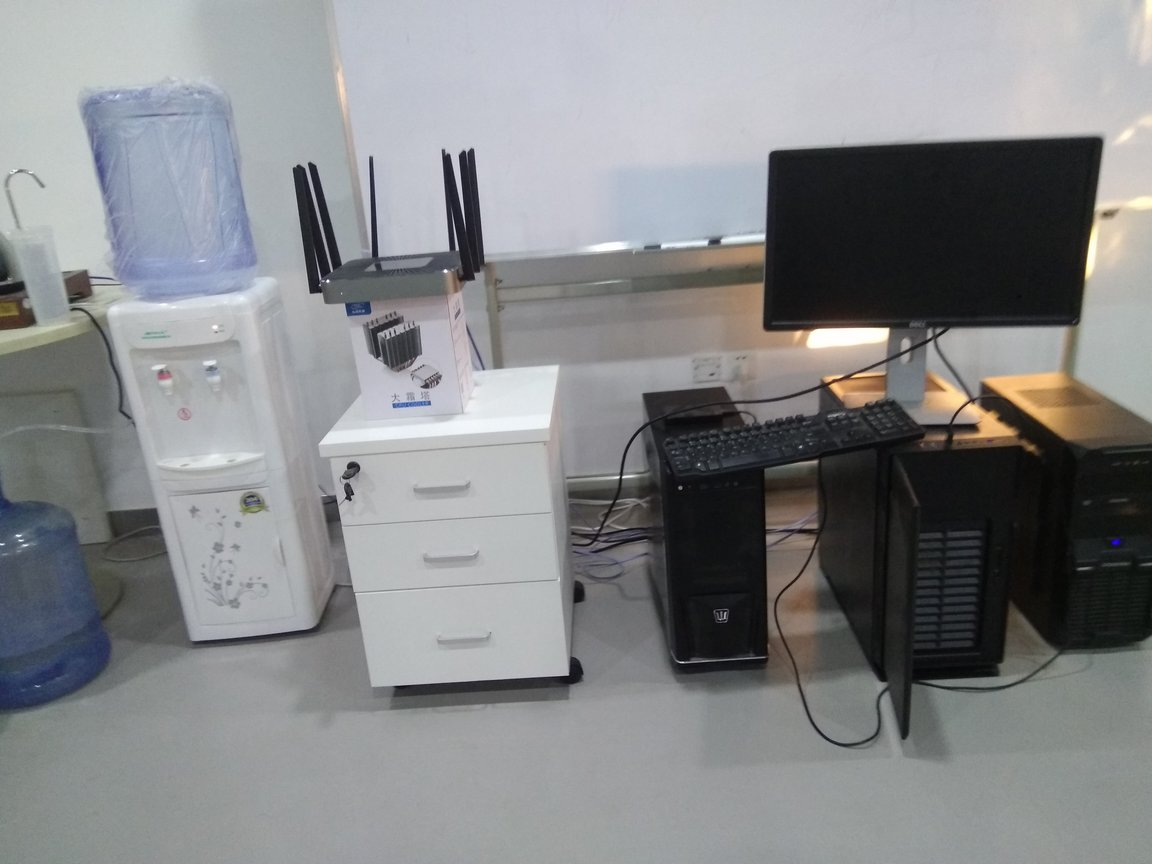computer: (817, 370, 1035, 711), (977, 366, 1152, 658), (636, 384, 786, 682)
drawer chest: (324, 361, 597, 707)
monitor: (759, 121, 1097, 425)
scuttlebutt: (81, 73, 265, 295), (1, 492, 120, 721)
water dispenser: (106, 280, 348, 657)
